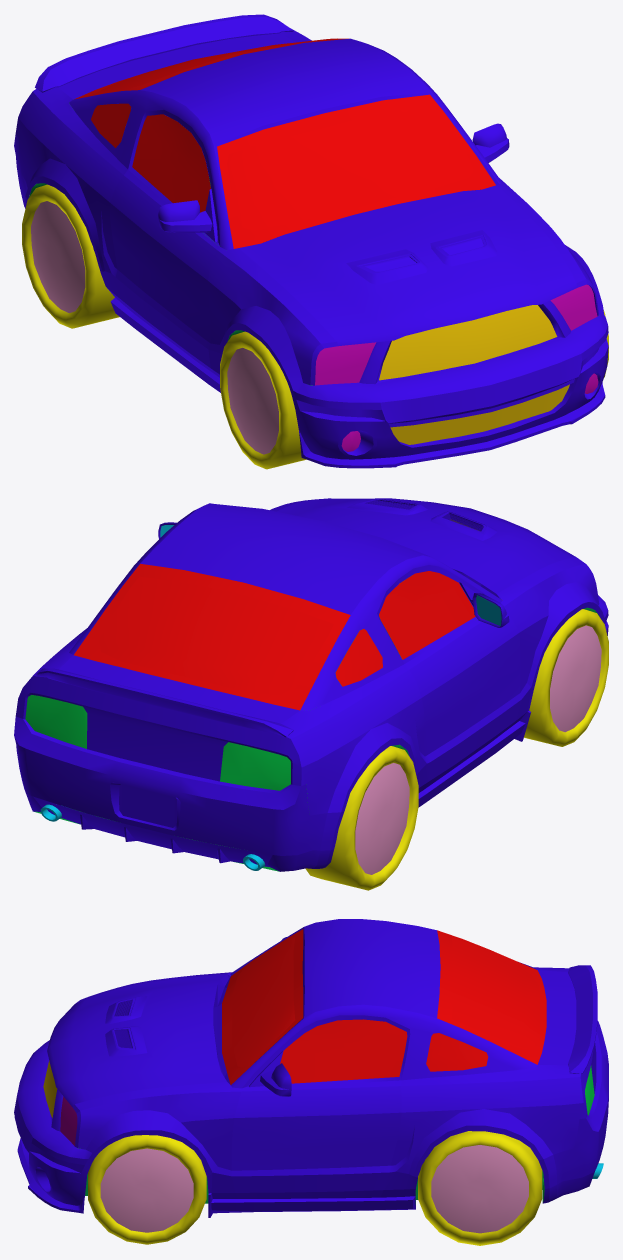
Rendered from Car02_ColorCoded.fbx.
3 renders of one model, top to bottom at view 1: azimuth 30°, elevation 25°; view 2: azimuth 150°, elevation 25°; view 3: azimuth 270°, elevation 25°, orthographic. The views are drawn at different scales.
Visible parts, largest first — view 1: carBody, tireBackR, tireFrontR; view 2: carBody, tireBackR, tireFrontR; view 3: carBody, tireBackL, tireFrontL.
Boxes of the visible parts, bbox=[...] form: carBody: bbox=[14, 14, 608, 468]; tireBackR: bbox=[22, 184, 119, 328]; tireFrontR: bbox=[220, 331, 306, 469]; carBody: bbox=[14, 498, 608, 871]; tireBackR: bbox=[305, 746, 418, 890]; tireFrontR: bbox=[524, 609, 608, 746]; carBody: bbox=[14, 919, 608, 1217]; tireBackL: bbox=[418, 1131, 542, 1245]; tireFrontL: bbox=[88, 1135, 206, 1244].
Bounding box in the file's own units: 65.27 × 114 × 46.84.
